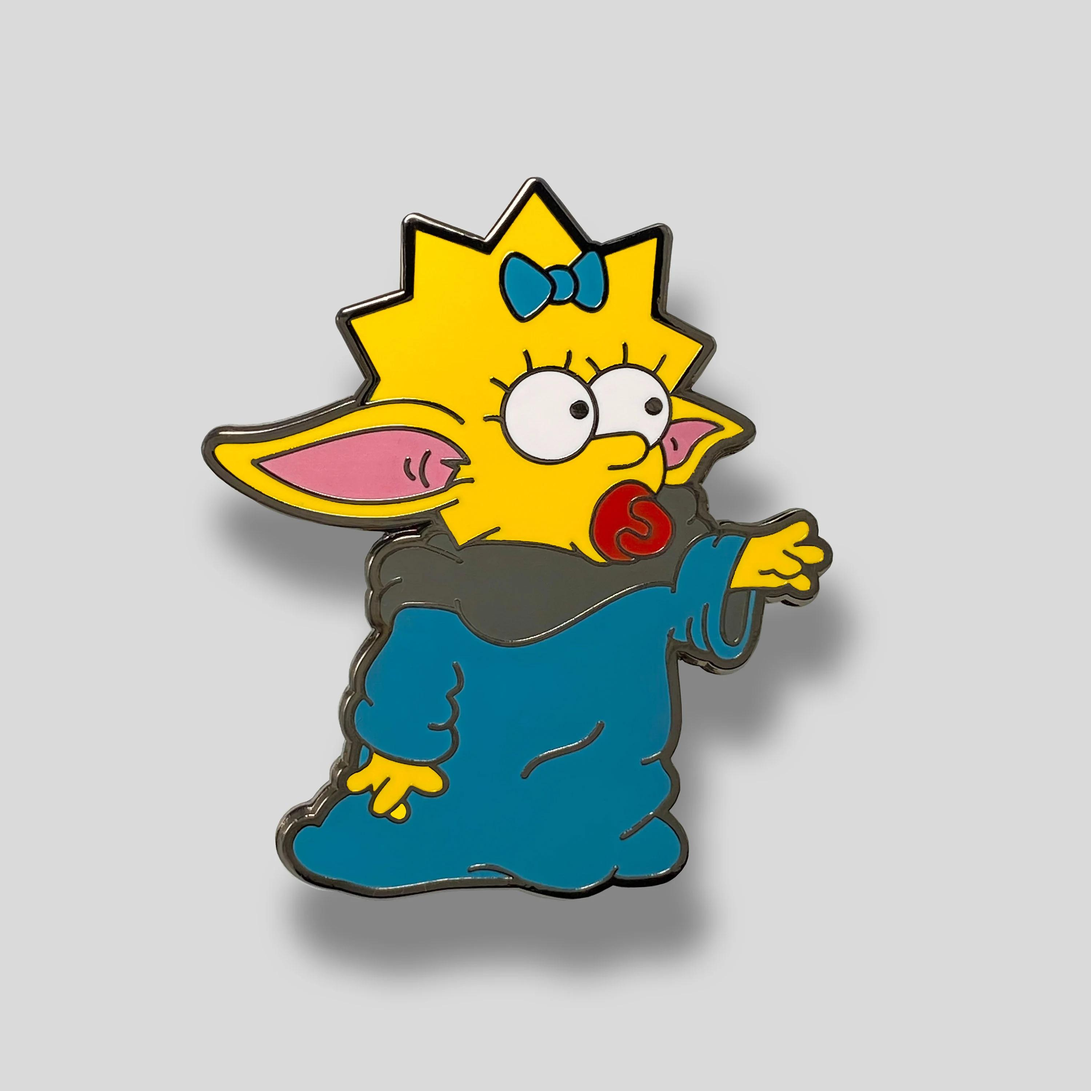Maggie: (175, 148, 863, 952)
